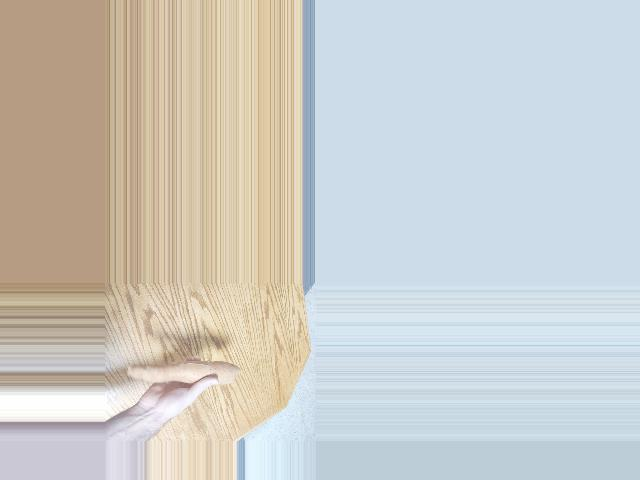sweet_potato: (127, 357, 234, 389)
